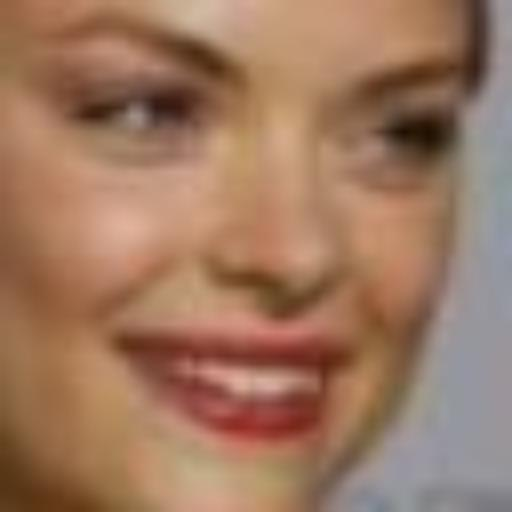left_eye: (353, 115, 451, 173)
right_eye: (77, 87, 187, 141)
right_lip_corner: (119, 327, 172, 370)
